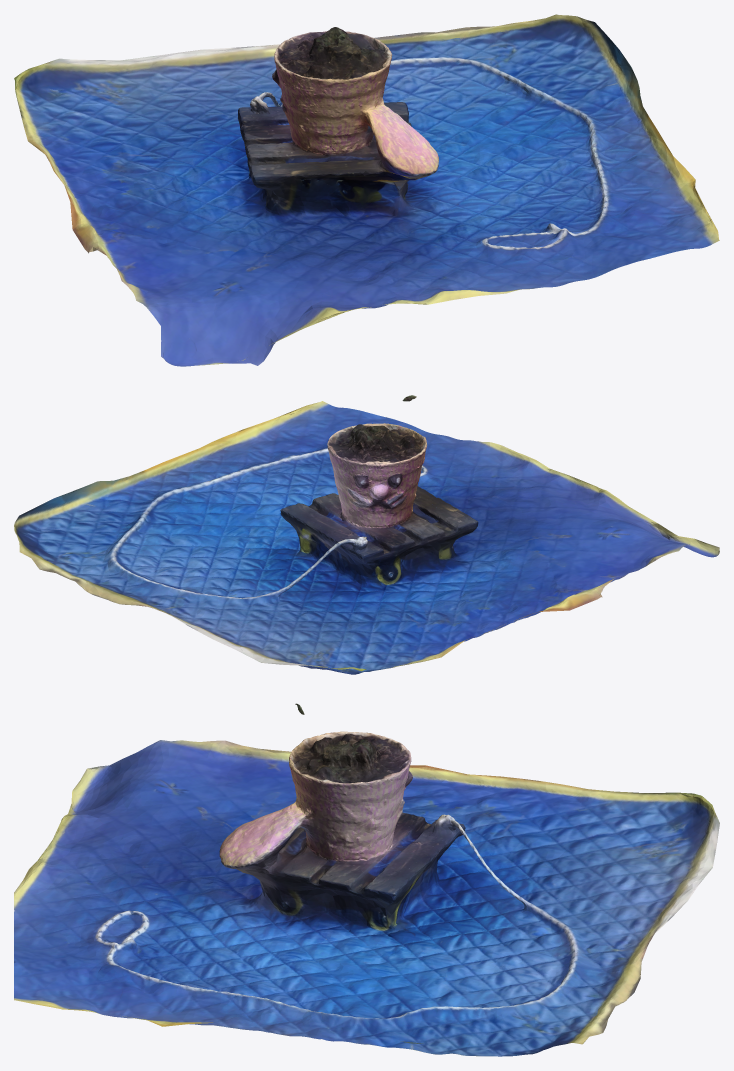
File: paleta.glb
3 views of the same model, one above another, from view 1: azimuth 30°, elevation 25°; view 2: azimuth 150°, elevation 25°; view 3: azimuth 270°, elevation 25° (orthographic). The views are drawn at different scales.
Bounding box in the file's own units: 1.64 × 0.5071 × 1.53.
Materials: 1 (1 with a texture image).
